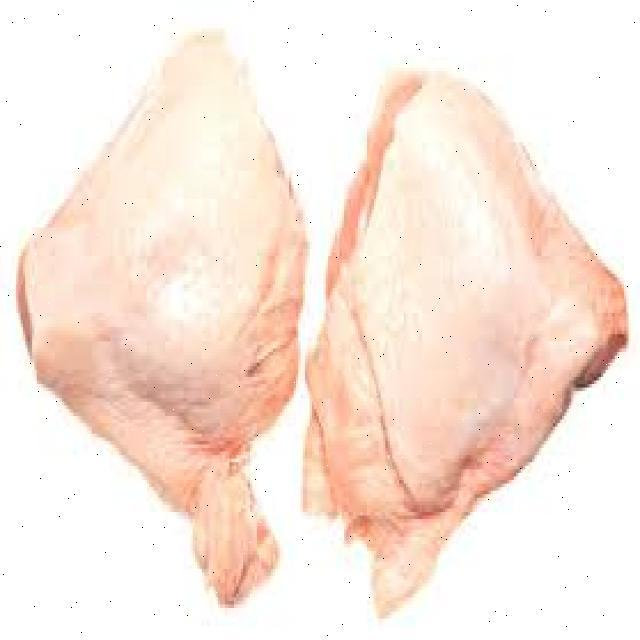thigh: (302, 37, 634, 622), (5, 16, 308, 624)
